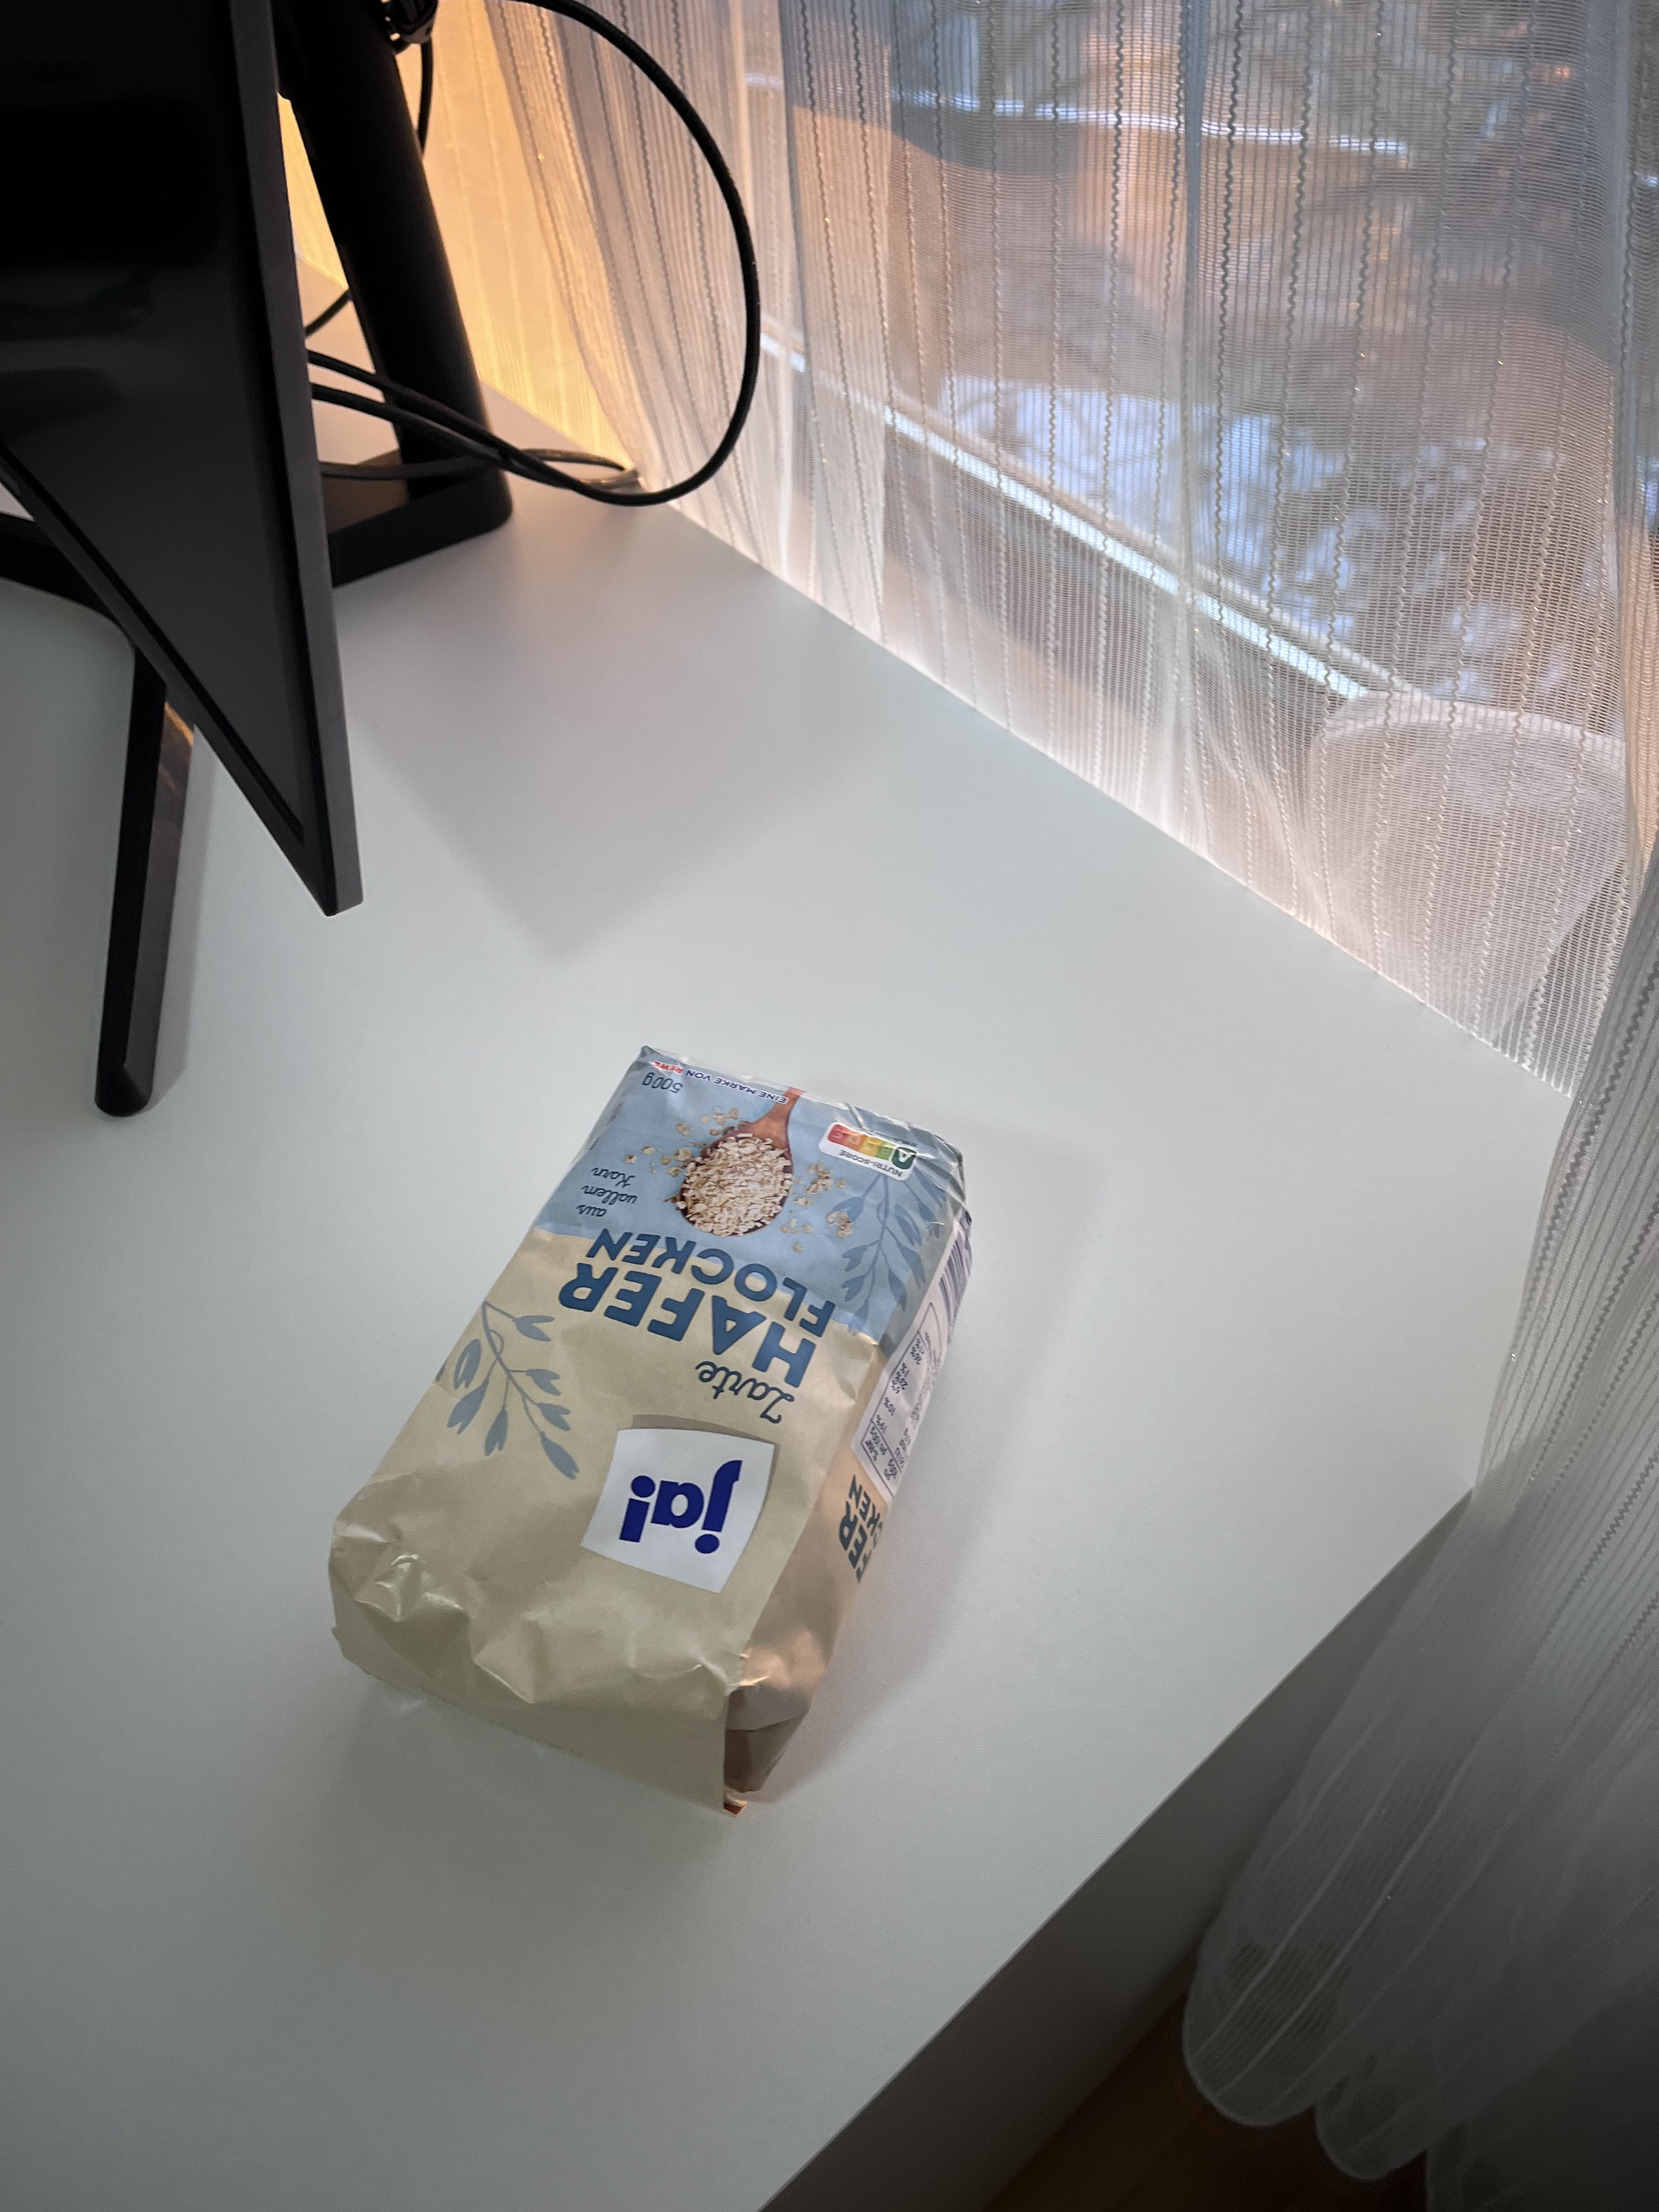haferflocken_ja: (331, 1045, 969, 1817)
